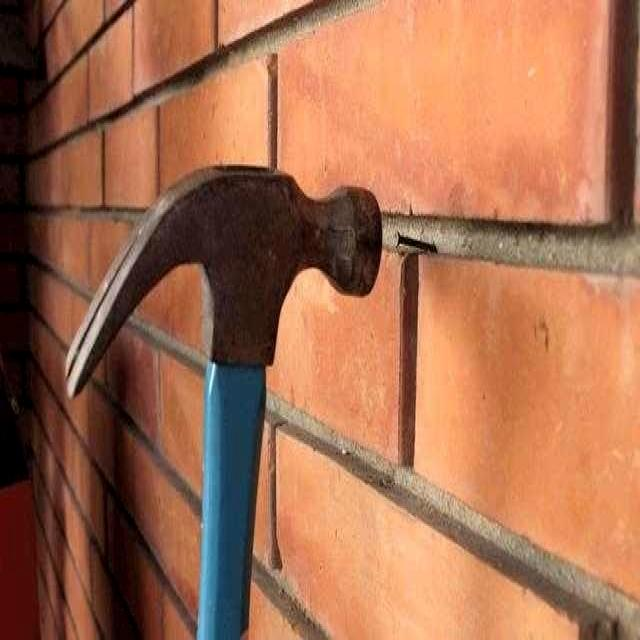hammer: (54, 143, 390, 639)
